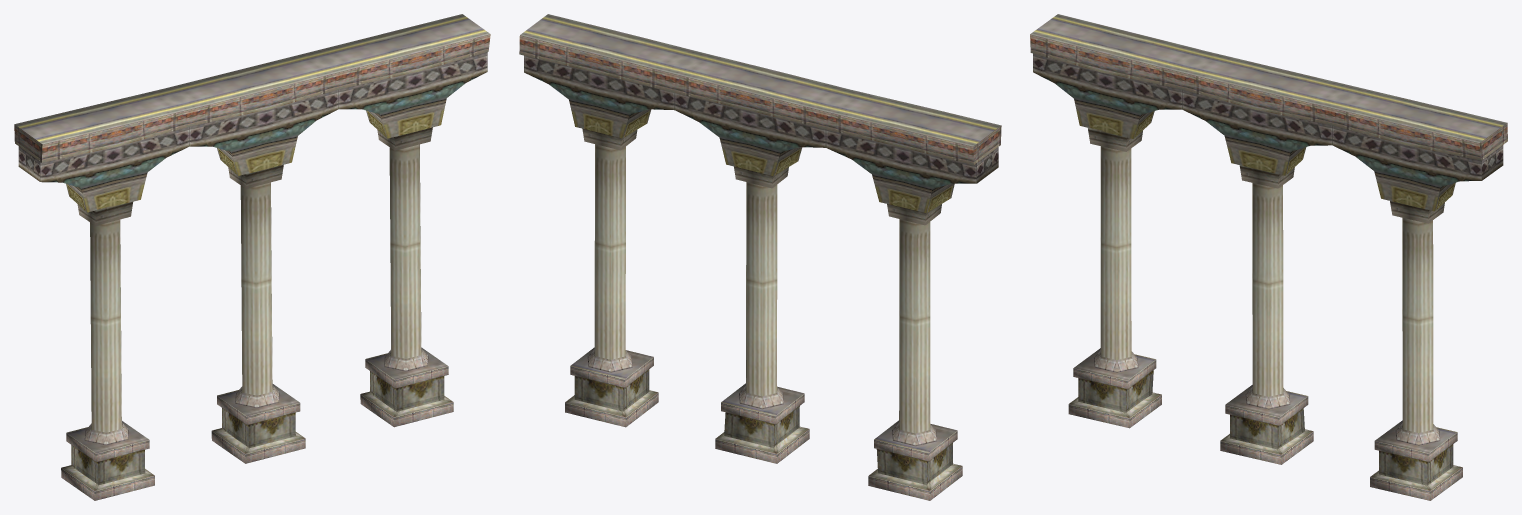
The model's file is S_Build_City011.FBX.
3 views of the same model, side by side, from view 1: azimuth 30°, elevation 25°; view 2: azimuth 150°, elevation 25°; view 3: azimuth 330°, elevation 25° (orthographic).
Parts seen in each view (by area): view 1: S_Build_City011; view 2: S_Build_City011; view 3: S_Build_City011.
Part boxes in pixels (<box>): S_Build_City011: <box>14,14,490,500</box>; S_Build_City011: <box>519,14,1001,500</box>; S_Build_City011: <box>1030,14,1507,500</box>.
Bounding box in the file's own units: 928 × 723 × 127.
